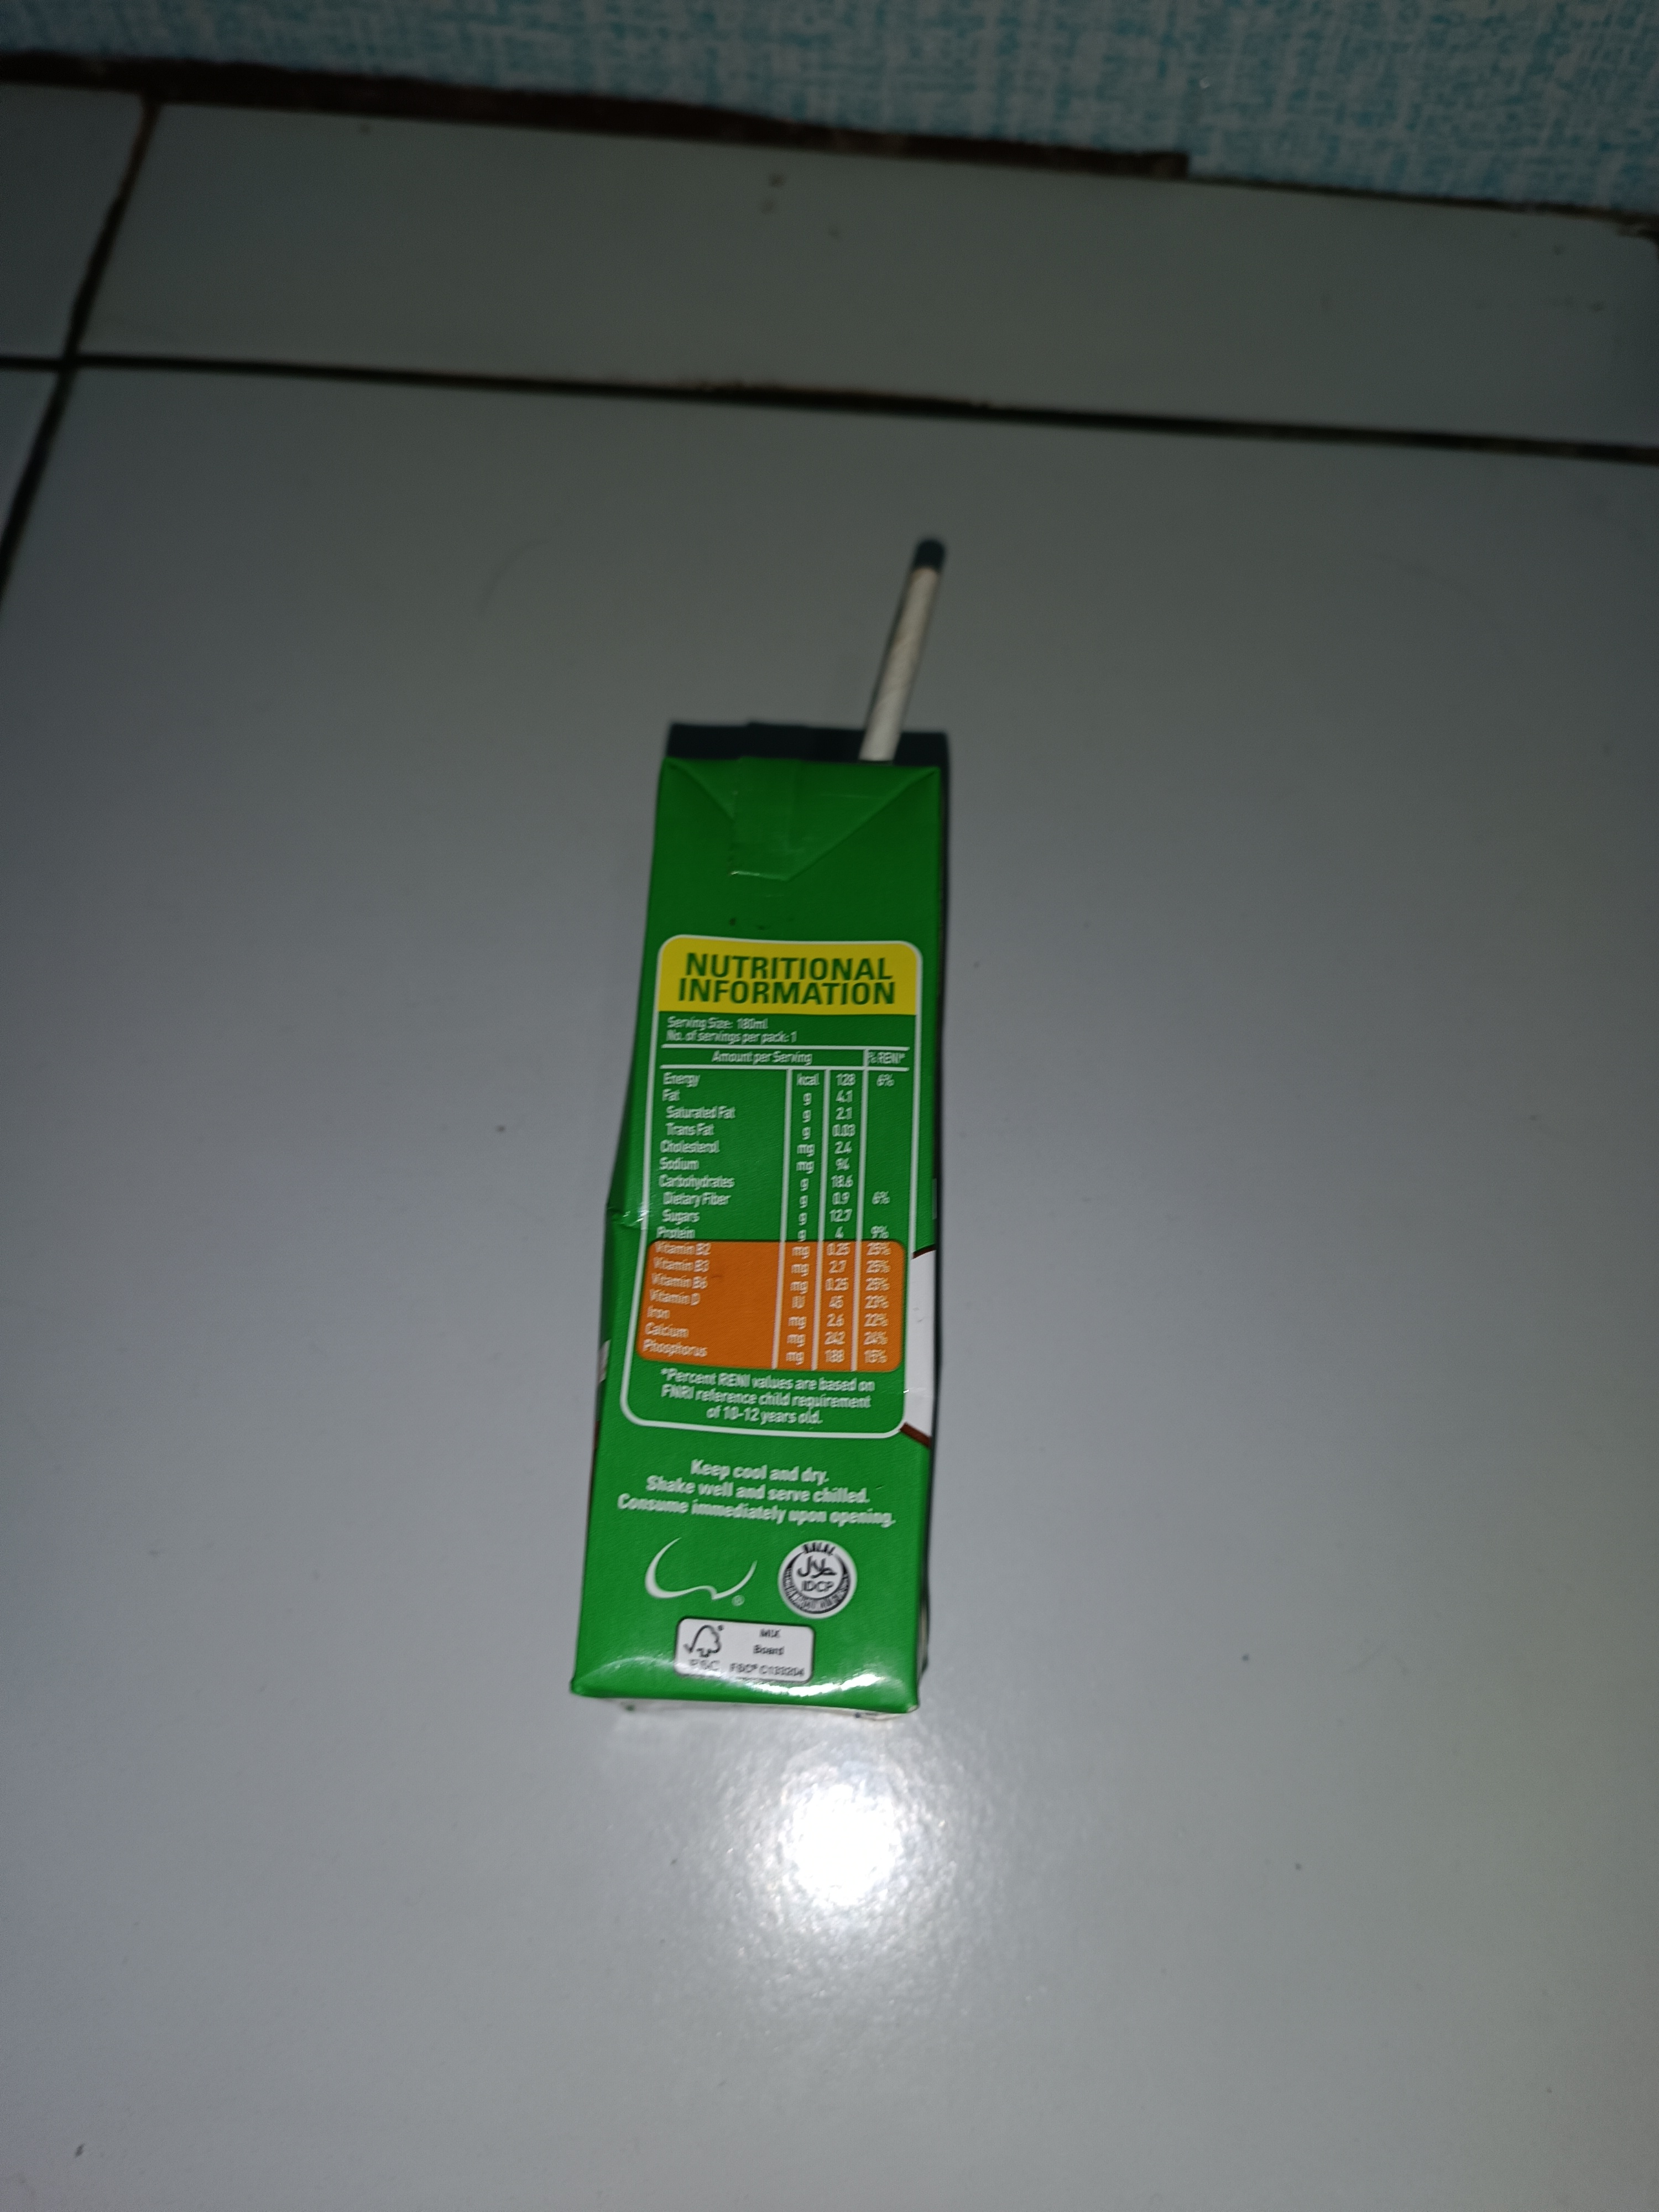Juice Box: (443, 449, 1032, 1909)
